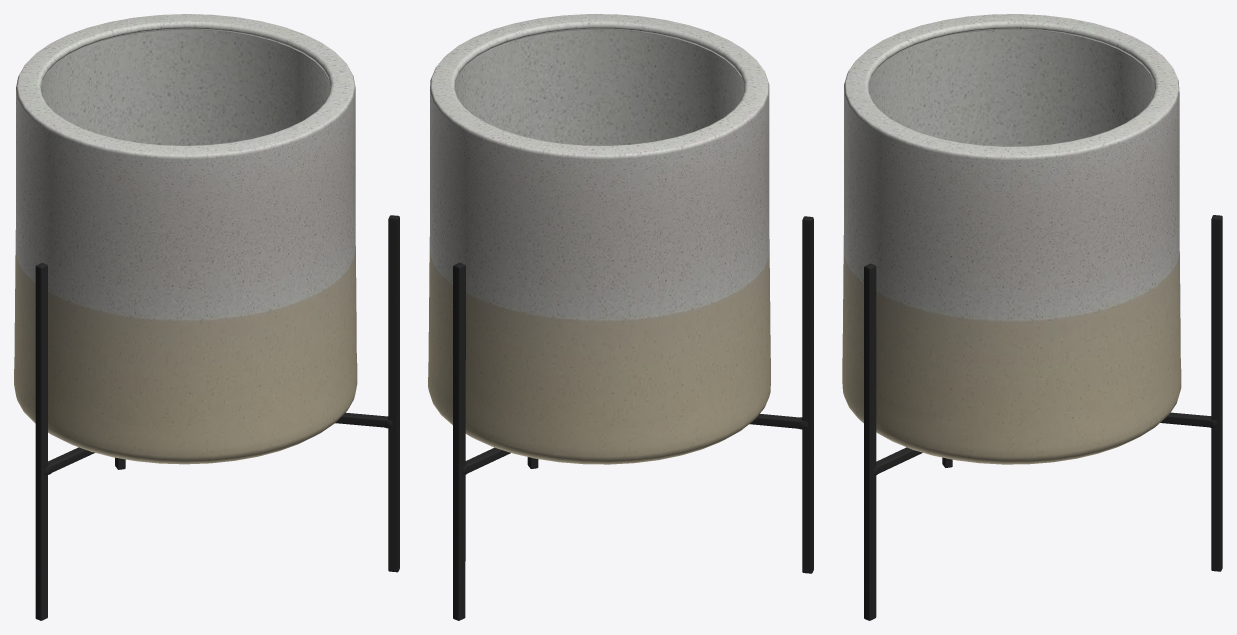
Rendered from abo-B07CF7B5S2.glb.
The picture shows the model from 3 angles, left to right: view 1: azimuth 30°, elevation 25°; view 2: azimuth 150°, elevation 25°; view 3: azimuth 270°, elevation 25°; orthographic projection.
Size of the model in its own units: 0.267 by 0.362 by 0.267.
Materials: 1 (1 with a texture image).
